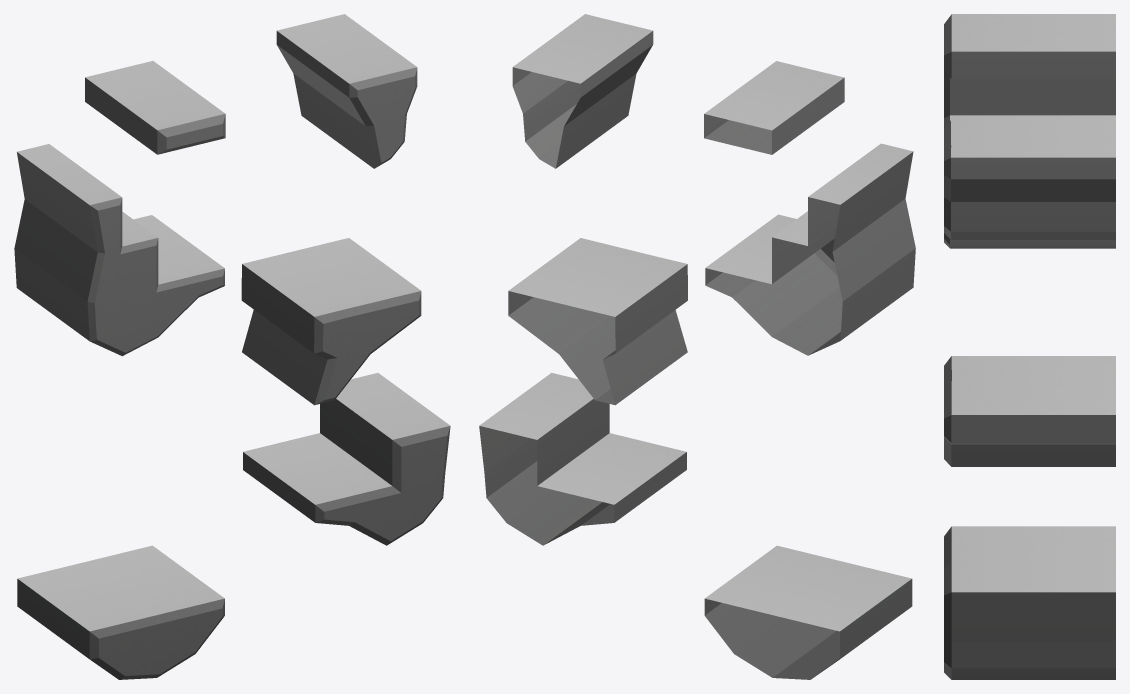
File: Waterfall Rocks.fbx
3 renders of one model, left to right at view 1: azimuth 30°, elevation 25°; view 2: azimuth 150°, elevation 25°; view 3: azimuth 270°, elevation 25°, orthographic. The views are drawn at different scales.
Visible parts, largest first — view 1: polySurface111, polySurface109, polySurface108, polySurface110, polySurface107, polySurface106; view 2: polySurface111, polySurface109, polySurface108, polySurface110, polySurface107, polySurface106; view 3: polySurface107, polySurface109, polySurface108, polySurface106, polySurface111, polySurface110.
Part boxes in pixels (left/top/right/bottom): polySurface111: left=14, top=144, right=224, bottom=356; polySurface109: left=243, top=373, right=450, bottom=545; polySurface108: left=241, top=238, right=421, bottom=405; polySurface110: left=17, top=545, right=224, bottom=679; polySurface107: left=276, top=14, right=417, bottom=168; polySurface106: left=85, top=61, right=225, bottom=154; polySurface111: left=705, top=143, right=915, bottom=355; polySurface109: left=479, top=372, right=686, bottom=545; polySurface108: left=508, top=238, right=687, bottom=405; polySurface110: left=704, top=545, right=912, bottom=679; polySurface107: left=512, top=14, right=653, bottom=168; polySurface106: left=704, top=61, right=844, bottom=154; polySurface107: left=944, top=120, right=1115, bottom=239; polySurface109: left=944, top=560, right=1115, bottom=679; polySurface108: left=944, top=356, right=1115, bottom=466; polySurface106: left=944, top=14, right=1115, bottom=79; polySurface111: left=944, top=69, right=1115, bottom=248; polySurface110: left=944, top=526, right=1115, bottom=569.
Bounding box in the file's own units: 27.72 × 39.88 × 10.
Materials: 1 (1 with a texture image).
